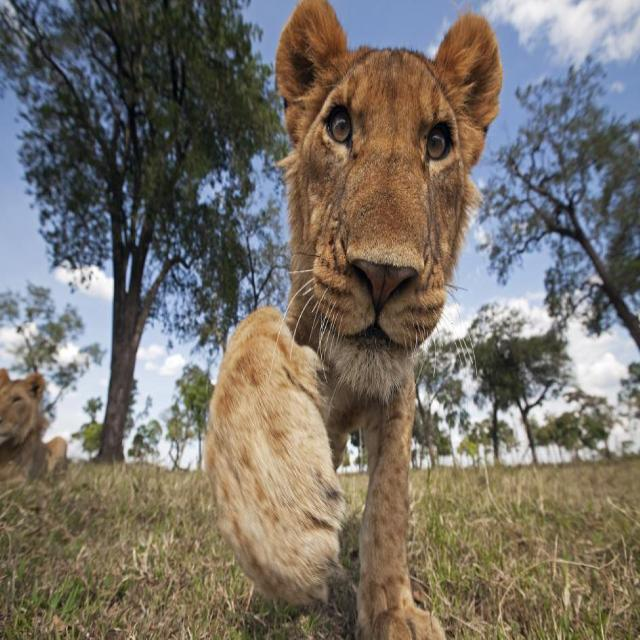Lion: (212, 2, 513, 640)
